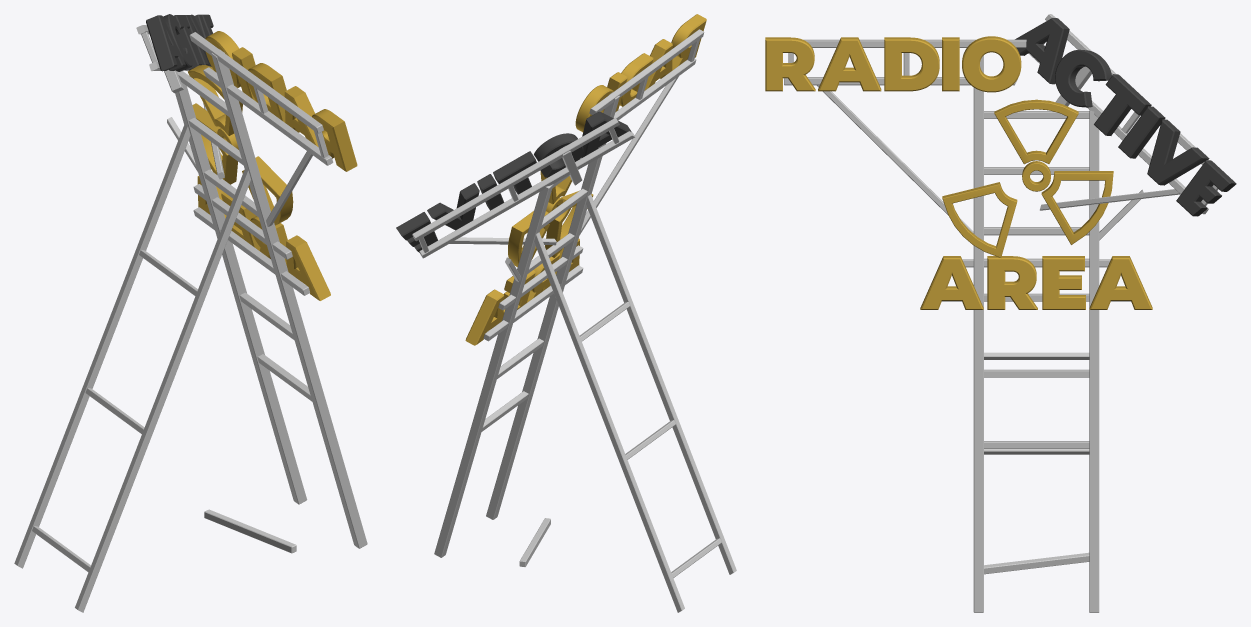
Rendered from Radioative Area Broken.fbx.
The picture shows the model from 3 angles, left to right: view 1: azimuth 30°, elevation 25°; view 2: azimuth 150°, elevation 25°; view 3: azimuth 270°, elevation 25°; orthographic projection. The views are drawn at different scales.
Parts seen in each view (by area): view 1: Radioactive_Area_Good_Broken, Text, Active; view 2: Radioactive_Area_Good_Broken, Text, Active; view 3: Text, Radioactive_Area_Good_Broken, Active.
Boxes of the visible parts, box(x1,y1,x2,y2) form: Radioactive_Area_Good_Broken: box(14, 25, 367, 612); Text: box(187, 31, 357, 300); Active: box(146, 14, 213, 71); Radioactive_Area_Good_Broken: box(412, 29, 736, 612); Text: box(465, 14, 706, 345); Active: box(396, 111, 631, 252); Text: box(765, 36, 1152, 309); Radioactive_Area_Good_Broken: box(784, 14, 1218, 612); Active: box(1015, 17, 1236, 216).
Size of the model in its own units: 221 by 396 by 326.
